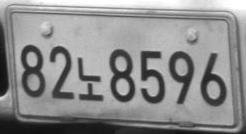2: (48, 45, 75, 100)
5: (140, 50, 165, 104)
6: (199, 52, 227, 107)
8: (108, 48, 136, 103), (19, 43, 46, 97)
9: (168, 50, 194, 104)
노: (77, 57, 104, 100)
